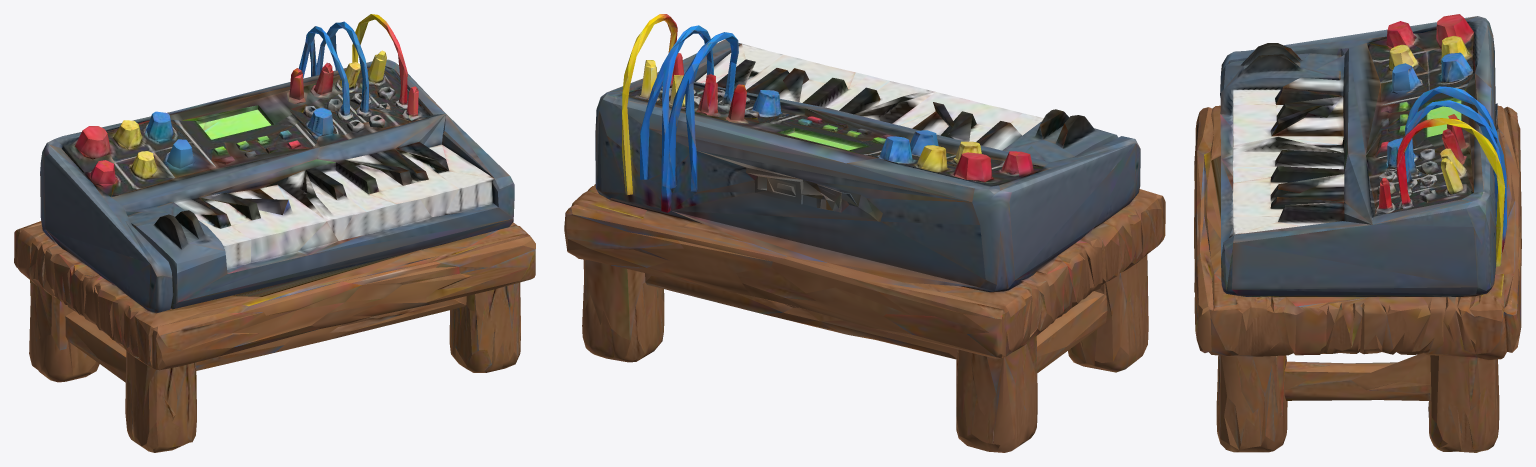
File: synth.glb
3 views of the same model, side by side, from view 1: azimuth 30°, elevation 25°; view 2: azimuth 150°, elevation 25°; view 3: azimuth 270°, elevation 25° (orthographic). The views are drawn at different scales.
Bounding box in the file's own units: 1.9 × 1.35 × 1.26.
1 material, 1 textured.
